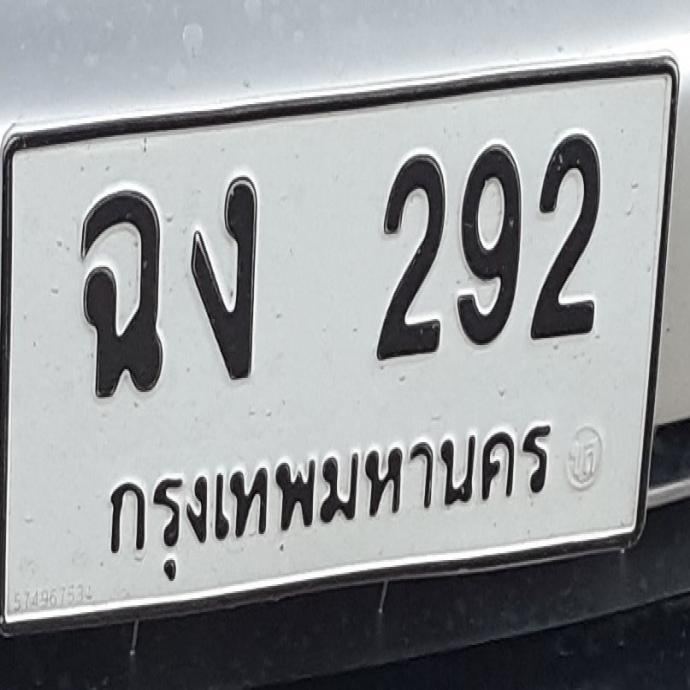2: (369, 150, 456, 369), (526, 129, 610, 348)
9: (447, 140, 530, 357)
A07: (176, 169, 265, 389)
A09: (74, 180, 173, 404)
BKK: (91, 401, 568, 603)
